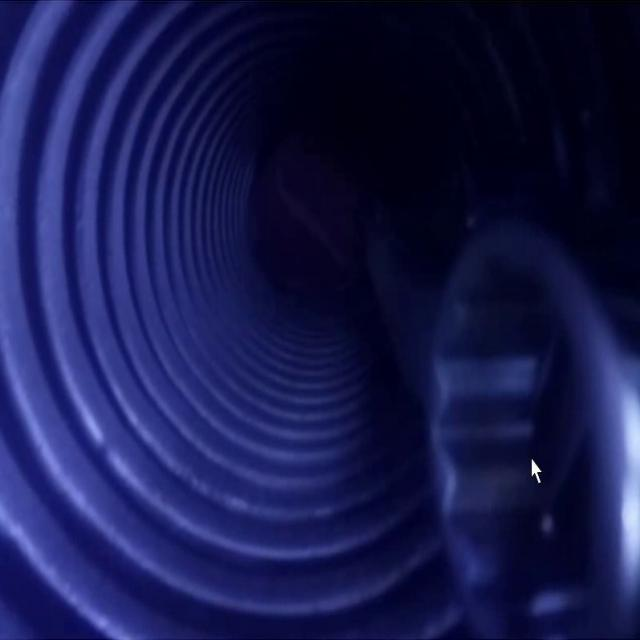metal piece: (368, 204, 640, 634)
